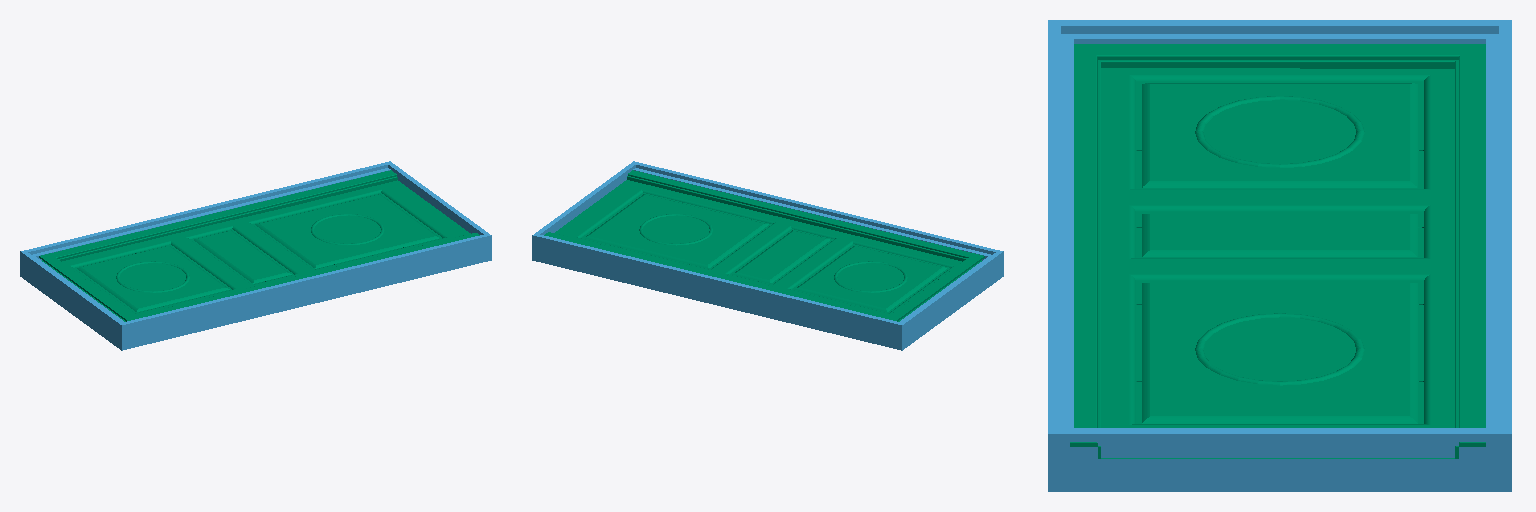
robot.urdf — right-pull-door:
<?xml version="1.0" ?>
<robot name="right-pull-door">
	<link name="base"/>
	<link name="link_0">
		<visual name="out-frame">
			<origin xyz="0 0 0"/>
			<geometry>
				<mesh filename="texture_dae/frame.dae" scale="0.944786847007084 0.944786847007084 0.944786847007084"/>
			</geometry>
		</visual>
		<collision>
			<origin xyz="0 0 0"/>
			<geometry>
				<mesh filename="texture_dae/frame.dae" scale="0.944786847007084 0.944786847007084 0.944786847007084"/>
			</geometry>
		</collision>
	</link>
	<joint name="joint_0" type="fixed">
		<origin rpy="1.570796326794897 0 -1.570796326794897" xyz="0 0 0"/>
		<child link="link_0"/>
		<parent link="base"/>
	</joint>
	<link name="link_1">
		<visual name="surf-board">
			<origin xyz="0.35946871844125006 -0.7991129768991333 0"/>
			<geometry>
				<mesh filename="texture_dae/board.dae" scale="0.944786847007084 0.944786847007084 0.944786847007084"/>
			</geometry>
		</visual>
		<collision>
			<origin xyz="0.35946871844125006 -0.7991129768991333 0"/>
			<geometry>
				<mesh filename="texture_dae/board.dae" scale="0.944786847007084 0.944786847007084 0.944786847007084"/>
			</geometry>
		</collision>
	</link>
	<joint name="joint_1" type="revolute">
		<origin xyz="-0.35946871844125006 0.7991129768991333 0"/>
		<axis xyz="0 -1 0"/>
		<child link="link_1"/>
		<parent link="link_0"/>
		<limit lower="0" upper="1.5079644737231006"/>
	</joint>
	<link name="link_2">
		<visual name="handle">
			<origin xyz="0 0 0"/>
			<geometry>
				<mesh filename="texture_dae/9960001.dae" scale="0.8870543442197313 0.8870543442197313 0.8870543442197313"/>
			</geometry>
		</visual>
		<collision>
			<origin xyz="0 0 0"/>
			<geometry>
				<mesh filename="texture_dae/9960001.dae" scale="0.8870543442197313 0.8870543442197313 0.8870543442197313"/>
			</geometry>
		</collision>
	</link>
	<joint name="joint_2" type="revolute">
		<origin xyz="0.6506499511607011 -0.8749643877794986 0.0307654215417261"/>
		<child link="link_2"/>
		<parent link="link_1"/>
		<axis xyz="0 0 1"/>
		<limit lower="0" upper="1.5079644737231006"/>
	</joint>
</robot>

--- What the picture shows (computed from the rendered views, not written in the file) ---
3 views of the same robot in one strip: view 1: azimuth 30°, elevation 25°; view 2: azimuth 150°, elevation 25°; view 3: azimuth 270°, elevation 25° (orthographic).
Model right-pull-door with 4 links and 3 joints (2 revolute, 1 fixed), rooted at base, posed all joints at 0.
Links seen in each view (by area): view 1: link_1, link_0; view 2: link_1, link_0; view 3: link_1, link_0.
Link boxes in pixels (x1,y1,x2,y2): link_1: (39, 170, 479, 321); link_0: (20, 161, 491, 350); link_1: (544, 170, 984, 321); link_0: (532, 161, 1003, 350); link_1: (1070, 44, 1485, 458); link_0: (1048, 20, 1511, 491).
Size in the robot's own frame: 1.72 by 0.8132 by 0.1119 metres.
2 mesh visuals loaded from 3 distinct referenced files (2 Collada DAE); not drawn: 1 (file found but could not be loaded).
